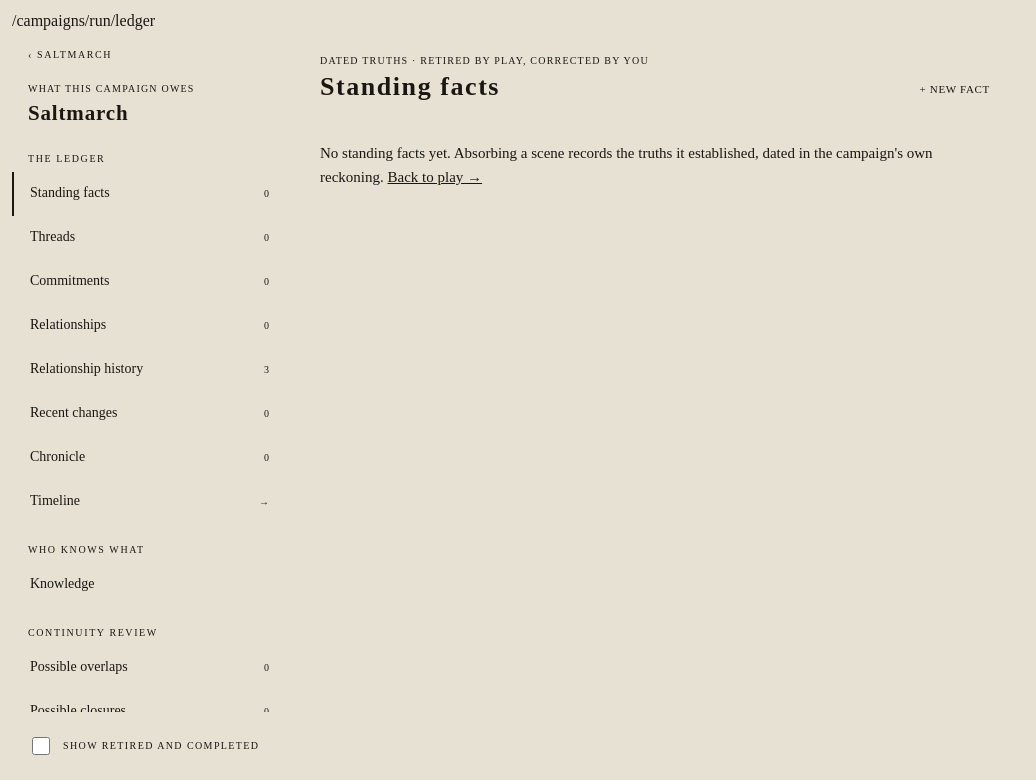
relationship history is the arc the current standing overwrote
Click the button "Relationship history 3".
click(87, 369)  # box [12,348,286,392]
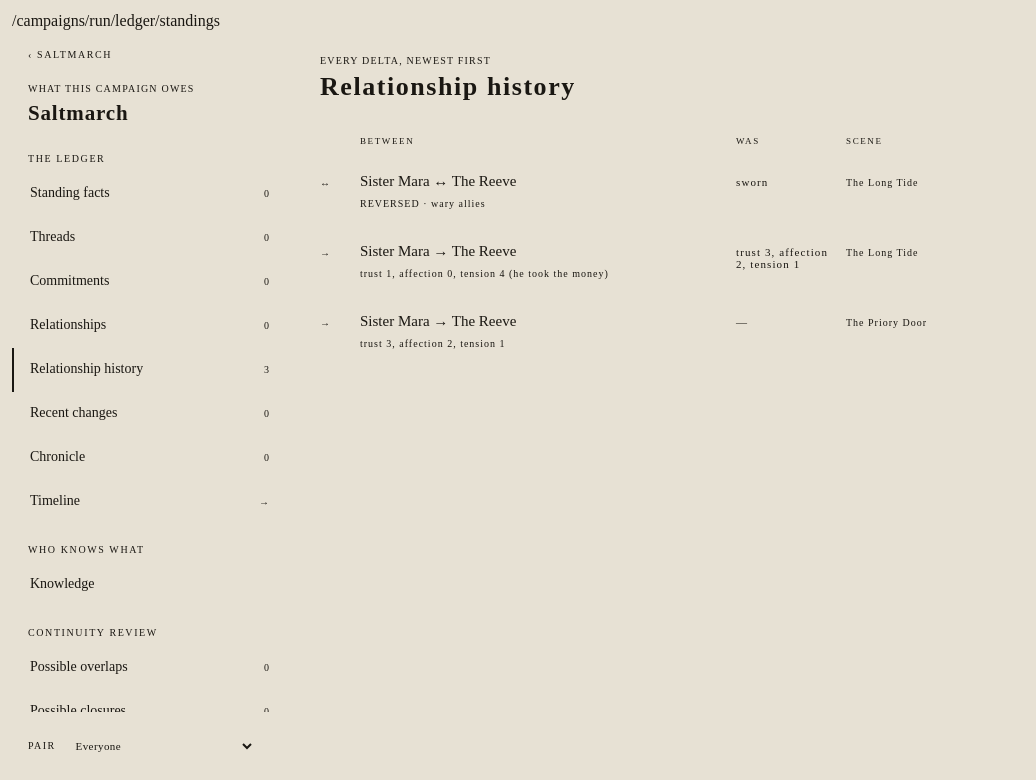
Expected: the 3rd row does not show "UNDONE", [320,226,1002,296]
Result: the heading "Relationship history" is shown at [320,72,576,101]
Result: the column headings read "Row", "BETWEEN", "WAS", "SCENE", in this order at [320,135,360,156]; [360,135,736,156]; [736,135,846,156]; [846,135,1002,156]
